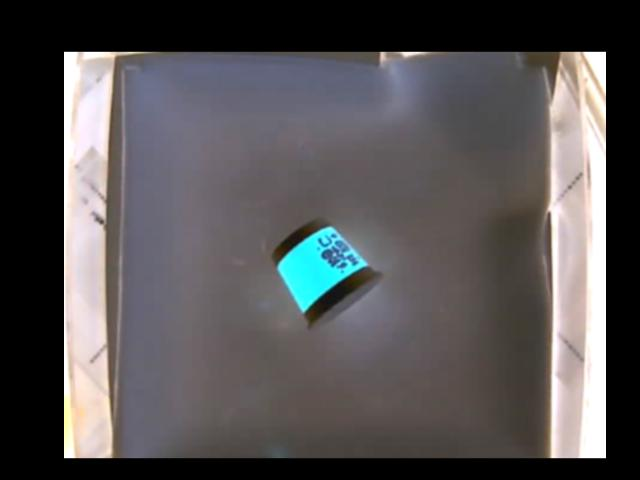Cup: (268, 220, 384, 327)
